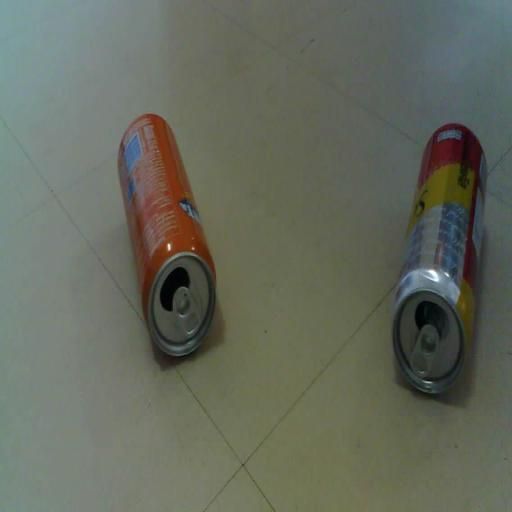canned: (381, 110, 490, 408), (112, 99, 220, 372)
